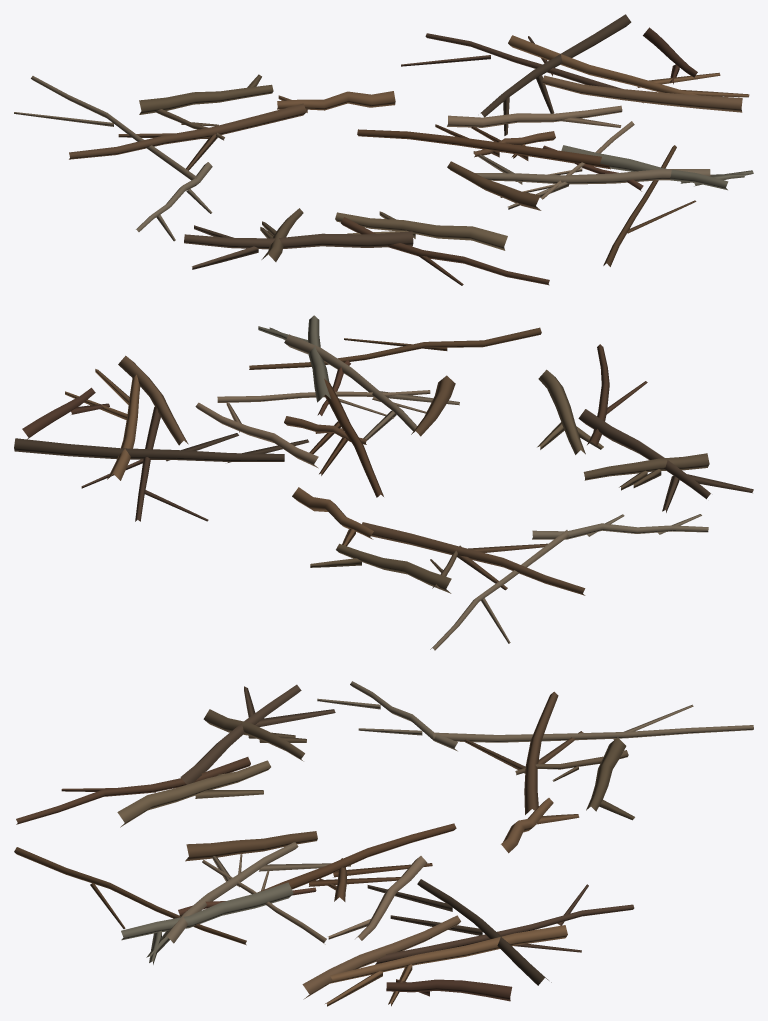
File: twigs-b.lod0.glb
3 views of the same model, one above another, from view 1: azimuth 30°, elevation 25°; view 2: azimuth 150°, elevation 25°; view 3: azimuth 270°, elevation 25° (orthographic). The views are drawn at different scales.
Bounding box in the file's own units: 1.29 × 0.0449 × 1.26.
